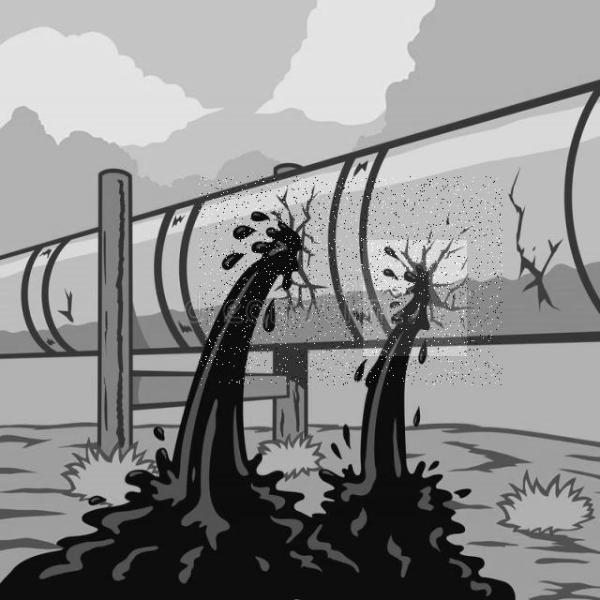water: (363, 240, 467, 356)
